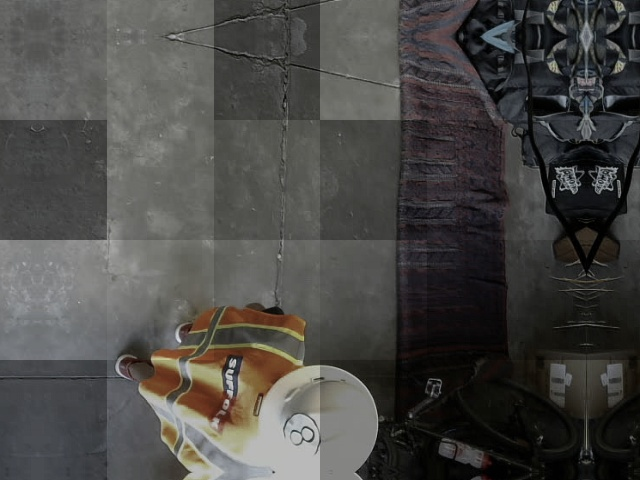eight: (281, 411, 321, 463)
